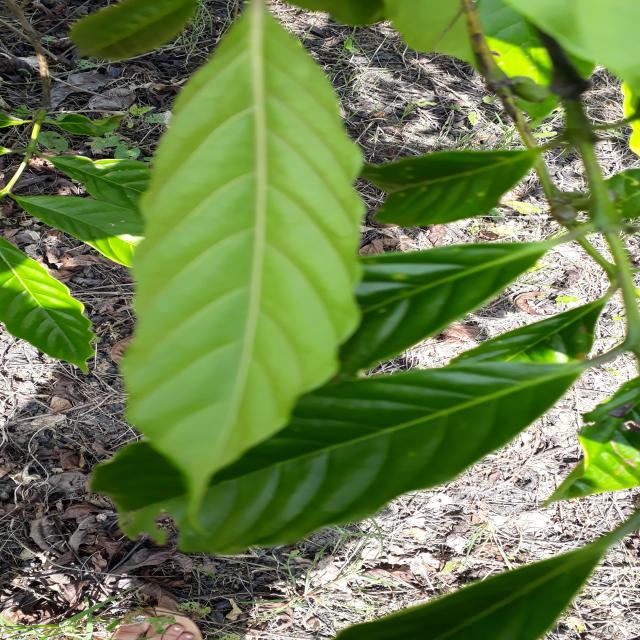Sanas: (98, 14, 366, 525)
